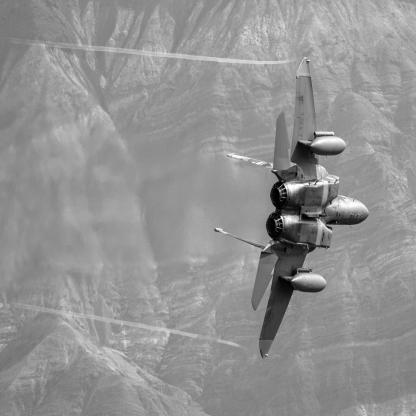F15: (215, 57, 370, 361)
